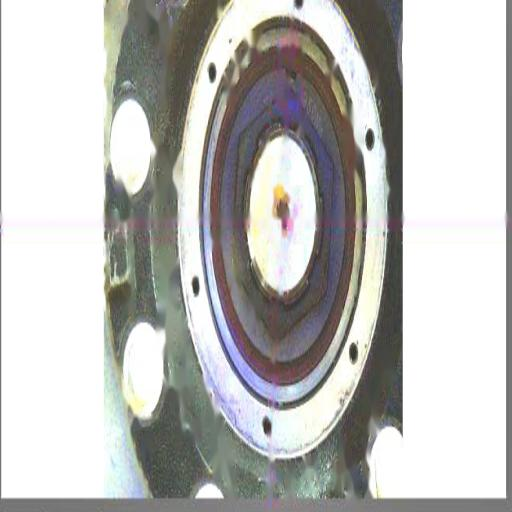center: (273, 194, 292, 236)
notch: (280, 55, 301, 92)
